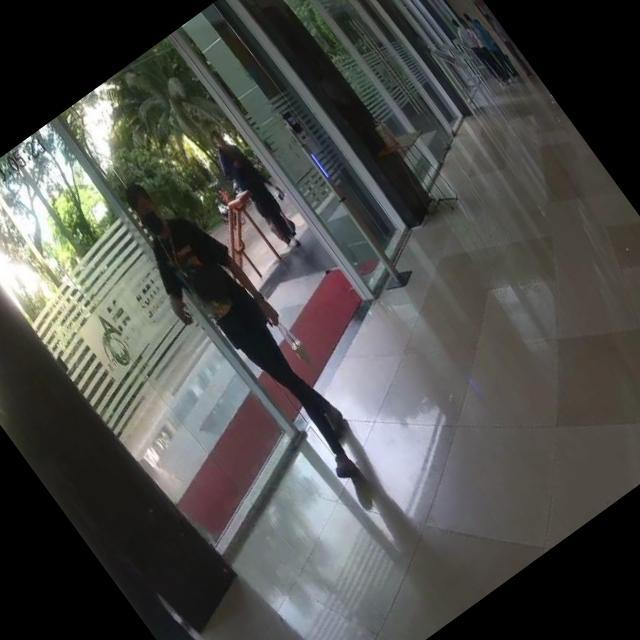person: (101, 159, 384, 506), (201, 122, 311, 256)
